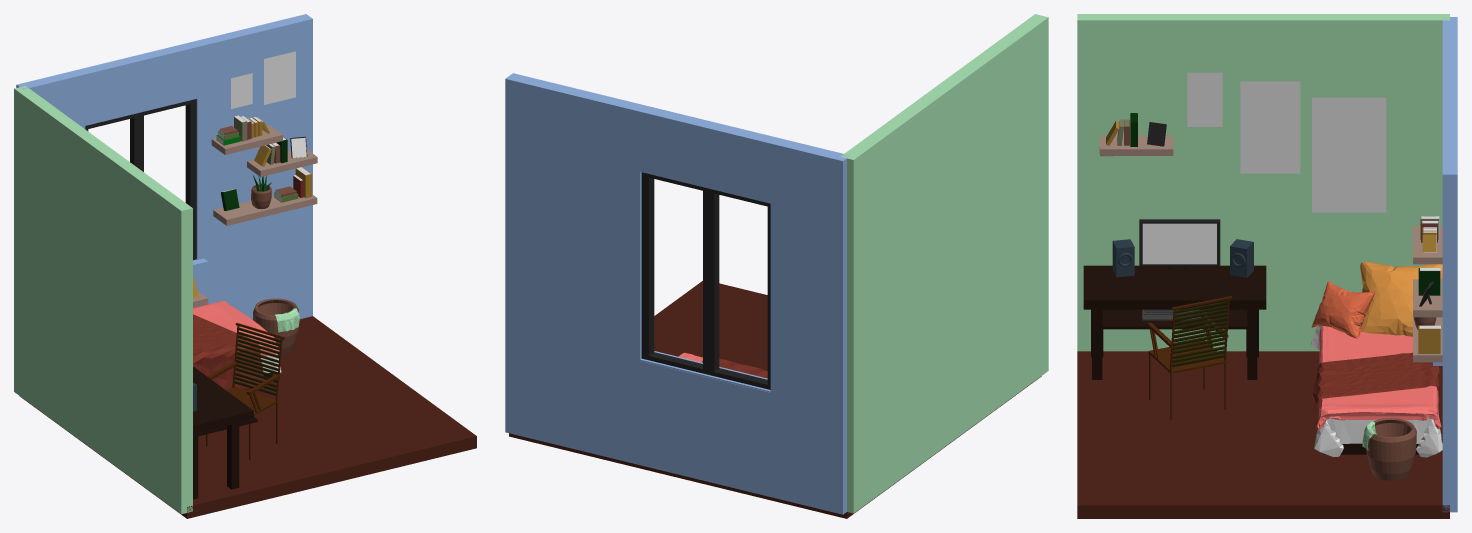
File: room.glb
The picture shows the model from 3 angles, left to right: view 1: azimuth 30°, elevation 25°; view 2: azimuth 150°, elevation 25°; view 3: azimuth 270°, elevation 25°; orthographic projection. The views are drawn at different scales.
Parts seen in each view (by area): view 1: Cube, Cube.002, Cube.001, Cube.086, Plane.003, Cube.054, Plane.004, Cube.050, Cube.004, Cube.007, Cylinder, Cube.056 (+4 smaller); view 2: Cube.002, Cube, Cube.001, Cube.048, Cube.050, Cube.052, Cube.049, Cube.005; view 3: Cube, Cube.001, Plane.007, Cube.002, Cube.054, Cube.004, Plane.008, Cube.086, Plane.003, Plane.001, Cube.063, Cylinder (+16 smaller).
Part boxes in pixels (x1,y1,x2,y2): Cube: [14, 86, 192, 514]; Cube.002: [16, 14, 312, 319]; Cube.001: [19, 316, 476, 518]; Cube.086: [206, 323, 284, 459]; Plane.003: [193, 314, 264, 390]; Cube.054: [193, 366, 253, 434]; Plane.004: [264, 51, 295, 104]; Cube.050: [185, 99, 196, 259]; Cube.004: [193, 300, 279, 372]; Cube.007: [213, 194, 317, 225]; Cylinder: [252, 298, 298, 354]; Cube.056: [227, 423, 239, 489]; Cube.002: [505, 73, 849, 514]; Cube: [840, 14, 1048, 513]; Cube.001: [509, 281, 1041, 518]; Cube.048: [703, 187, 719, 375]; Cube.050: [641, 172, 654, 360]; Cube.052: [644, 352, 767, 389]; Cube.049: [767, 203, 770, 389]; Cube.005: [640, 351, 770, 392]; Cube: [1077, 14, 1449, 351]; Cube.001: [1077, 351, 1449, 518]; Plane.007: [1312, 97, 1386, 212]; Cube.002: [1442, 17, 1457, 512]; Cube.054: [1083, 265, 1266, 309]; Cube.004: [1317, 325, 1441, 430]; Plane.008: [1240, 81, 1300, 173]; Cube.086: [1147, 296, 1232, 420]; Plane.003: [1312, 352, 1441, 437]; Plane.001: [1360, 261, 1442, 336]; Cube.063: [1142, 223, 1216, 264]; Cylinder: [1366, 418, 1416, 480].
Size of the model in its own units: 10.2 by 10.2 by 10.2.
